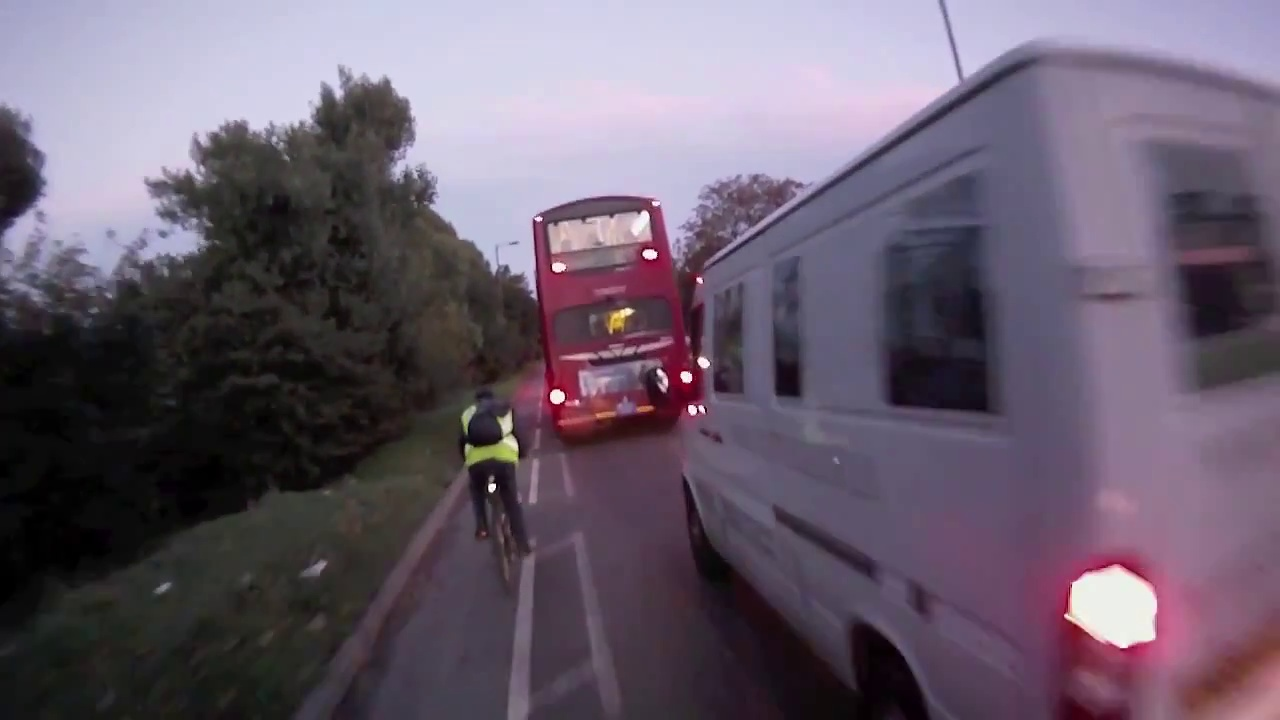cyclist_back: (452, 383, 537, 587)
